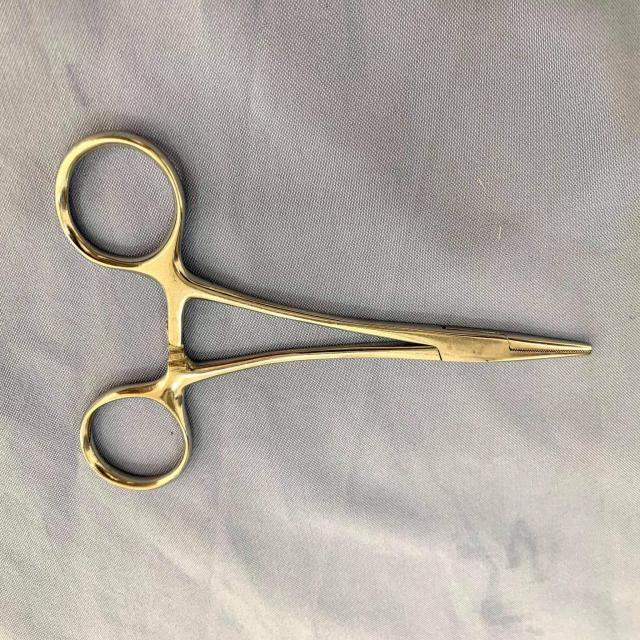Hemostat: (52, 123, 596, 496)
